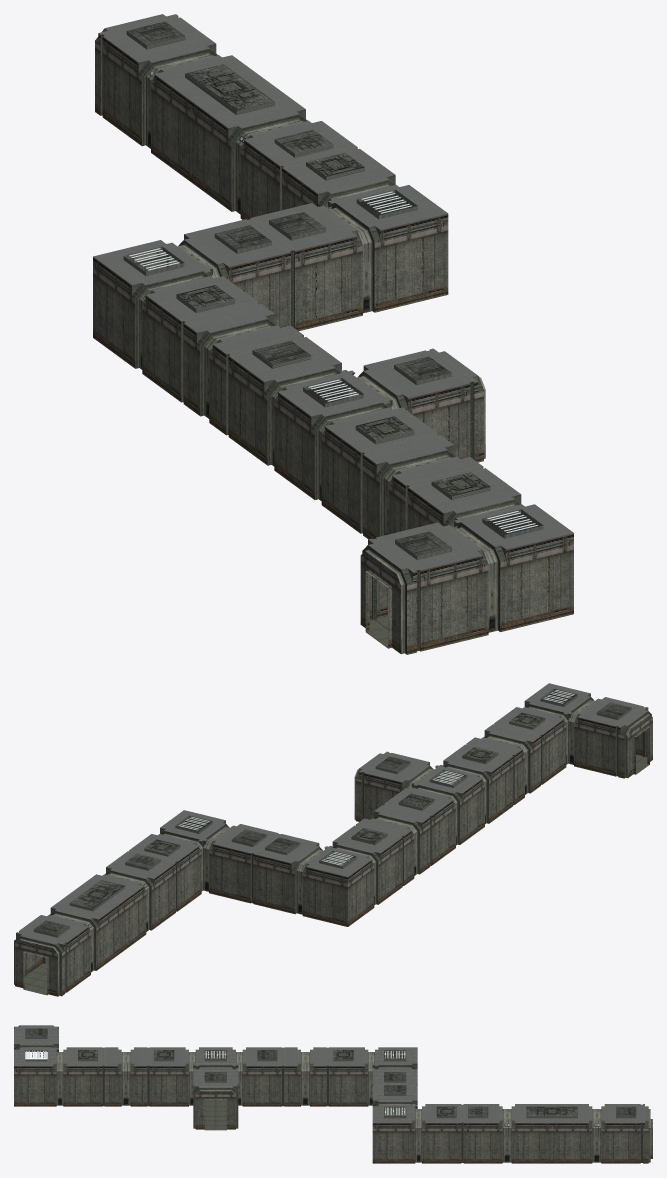
Rendered from poi_all_impl_bunker_crimelord_retreat_s01_r5_hallway02_mesh_r5.fbx.
3 views of the same model, one above another, from view 1: azimuth 30°, elevation 25°; view 2: azimuth 150°, elevation 25°; view 3: azimuth 270°, elevation 25° (orthographic). The views are drawn at different scales.
Visible parts, largest first — view 1: mesh_node; view 2: mesh_node; view 3: mesh_node.
Part boxes in pixels (left/top/right/bottom): mesh_node: left=93, top=14, right=573, bottom=654; mesh_node: left=14, top=683, right=652, bottom=996; mesh_node: left=14, top=1025, right=652, bottom=1163.
Bounding box in the file's own units: 21 × 4.2 × 57.
